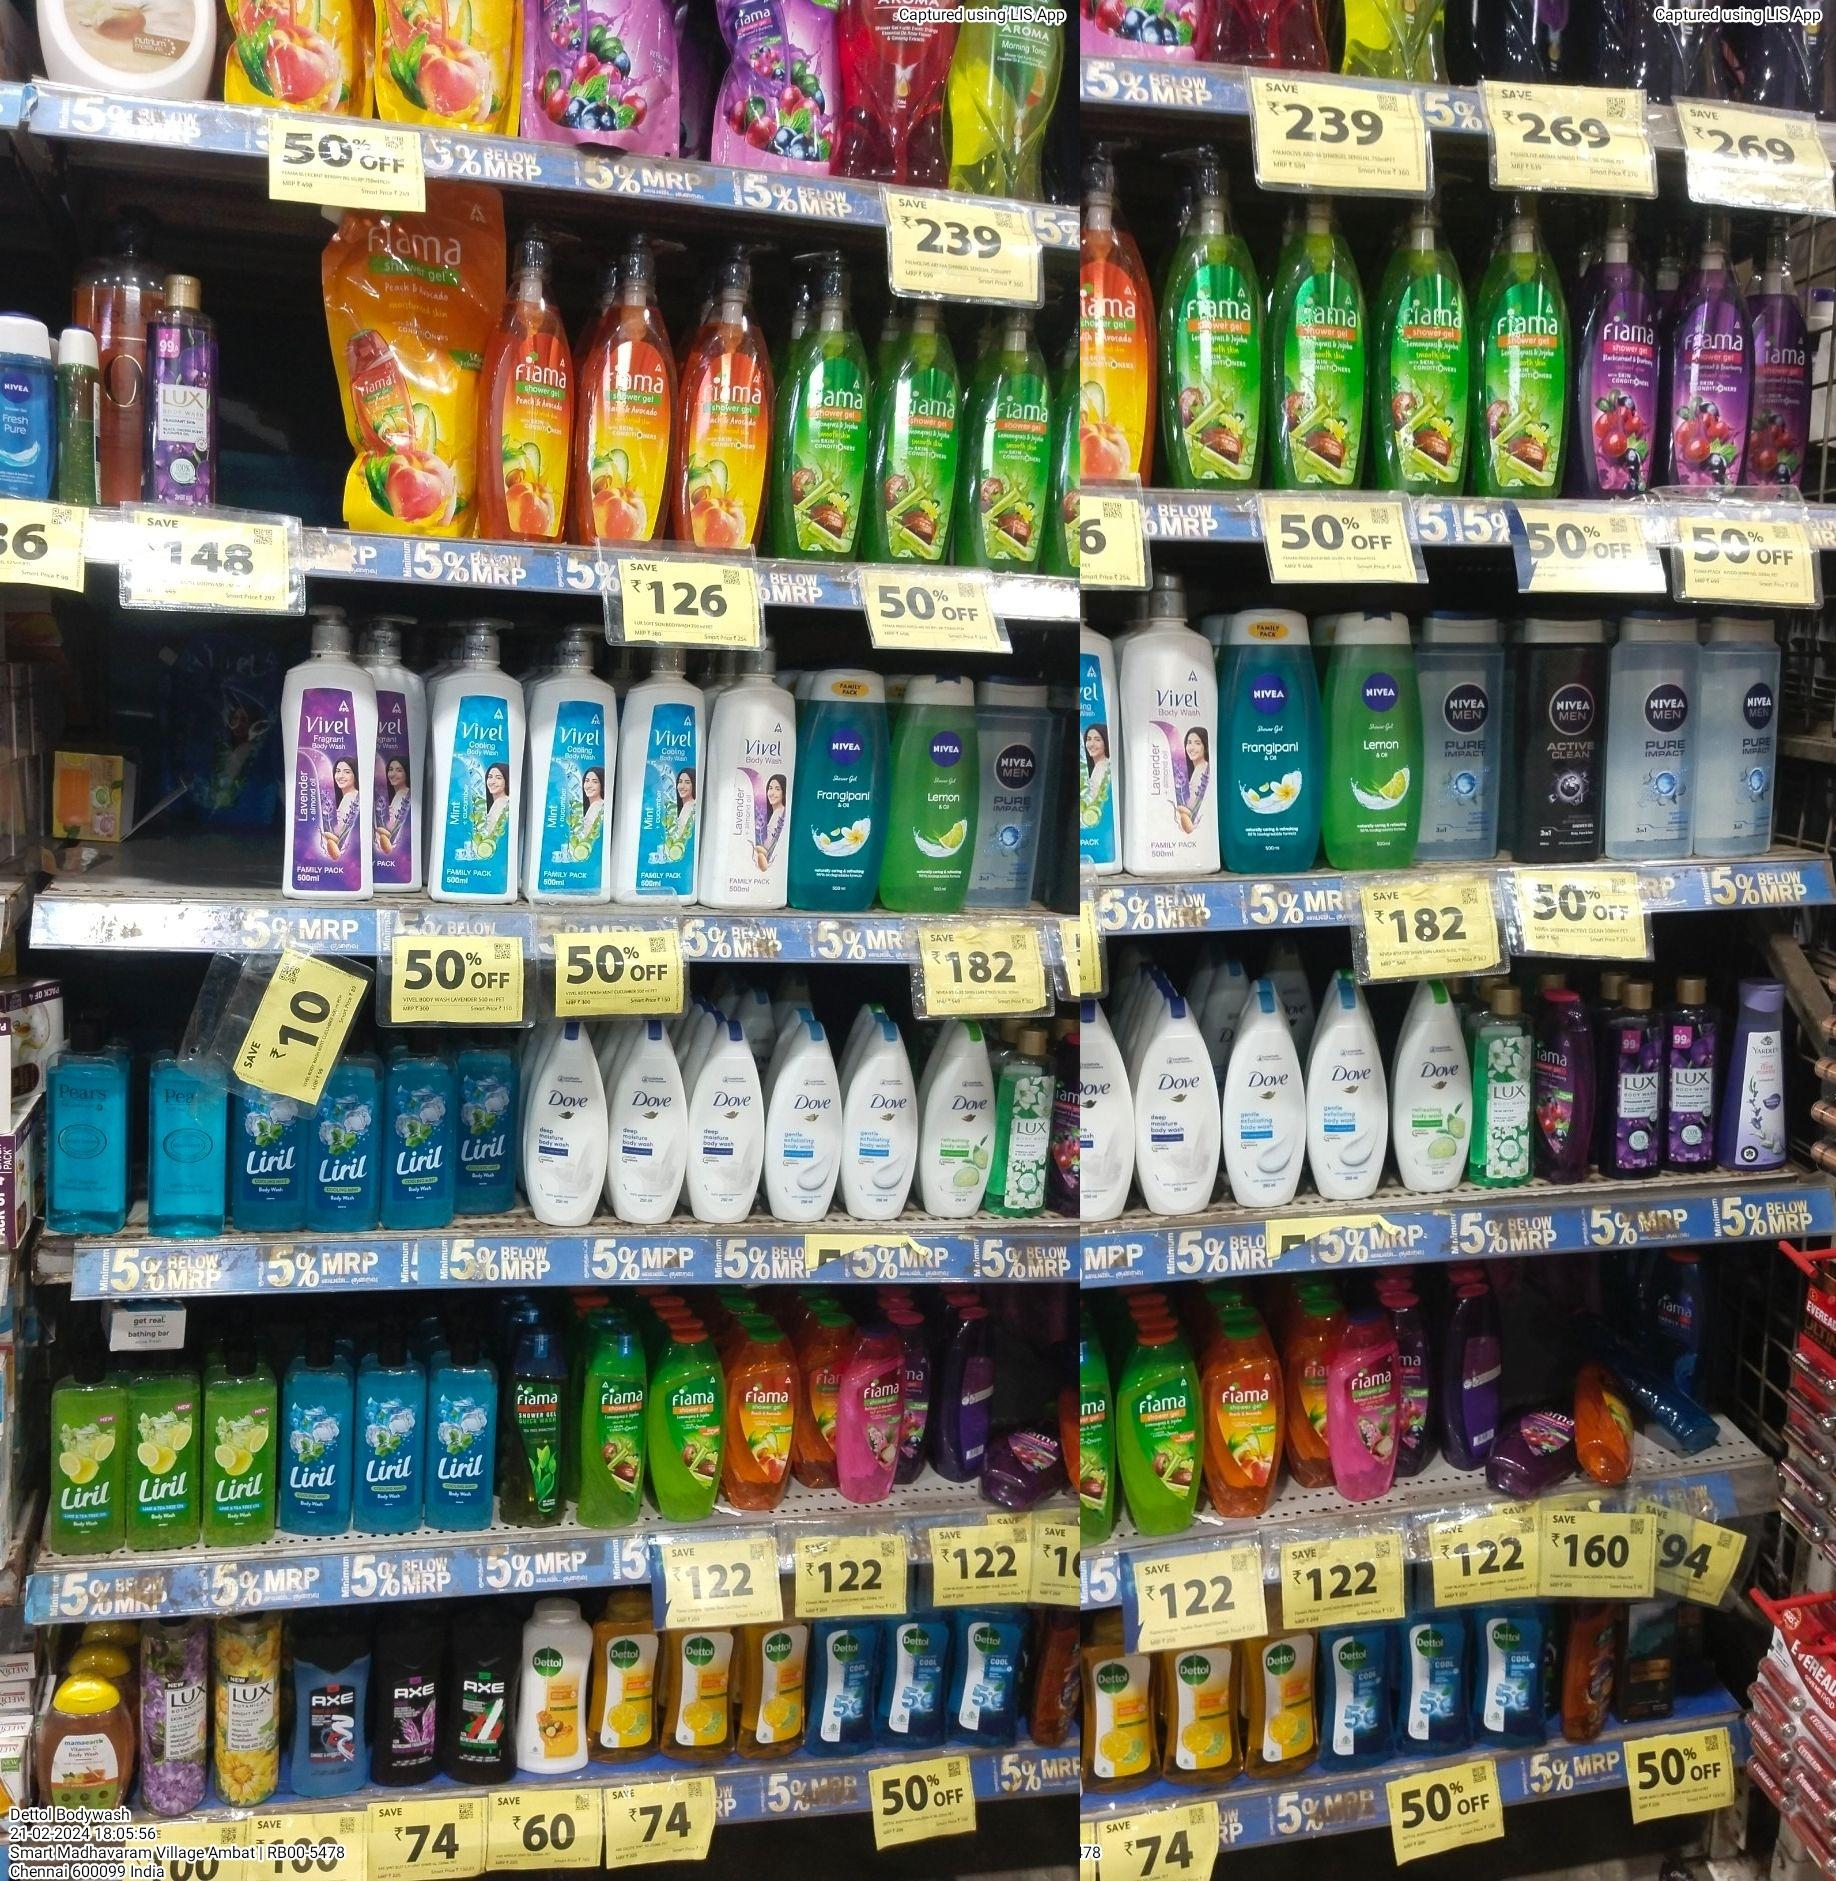Dettol_Bodywash_Cool: (1473, 1595, 1548, 1752), (1320, 1627, 1397, 1772), (1399, 1614, 1475, 1760), (950, 1607, 1024, 1753), (812, 1617, 883, 1758), (883, 1617, 955, 1747)
Dettol_Bodywash_Refresh: (1160, 1644, 1244, 1789), (1083, 1639, 1160, 1795), (592, 1589, 657, 1762), (1244, 1634, 1322, 1780), (659, 1627, 738, 1763), (738, 1620, 814, 1762)
Dettol_Nourish_Body_Wash_250ML: (518, 1589, 594, 1775)
Dove_Deep_Moisture_Body_Wash_250ML: (1133, 993, 1222, 1215), (523, 1019, 609, 1230), (688, 1017, 767, 1225), (610, 1017, 688, 1225)
Dove_Gentle_Exfoliating_Body_Wash_250ML: (1222, 988, 1308, 1209), (1305, 985, 1389, 1200), (765, 1017, 844, 1222), (844, 1015, 918, 1222)
Dove_Refreshing_Body_Wash_250ML: (1390, 980, 1475, 1193), (918, 1019, 997, 1220)
Fiama_Shower_Gel_Lemongrass_and_Jojoba_250ML: (1115, 1328, 1202, 1538), (647, 1331, 728, 1525)
Fiama_Shower_Gel_Patchouli_and_Macadamia_250ML: (1325, 1306, 1404, 1504), (834, 1321, 908, 1504)
Fiama_Shower_Gel_Peach_and_Avocado_250ML: (1202, 1320, 1285, 1523), (728, 1328, 800, 1513)
Liril_Cooling_Mint_Body_Wash_250ML: (279, 1330, 356, 1540), (425, 1326, 498, 1533), (355, 1328, 425, 1536), (382, 1027, 456, 1225), (456, 1025, 521, 1215)
Liril_Lime_and_Tea_Tree_Oil_Body_Wash_250ML: (202, 1338, 279, 1550), (50, 1346, 126, 1557), (128, 1350, 202, 1548)
Lux_Black_Orchid_Scent_and_Juniper_Oil_Body_Wash_245ML: (143, 269, 217, 511), (1604, 978, 1663, 1178), (1665, 972, 1722, 1177)
Lux_Body_Wash_Skin_Detox_Freesia_Scent_and_Alove_Vera_245ML: (1471, 980, 1537, 1188)
Nivea_Shower_Gel_Frangipani_and_Oil_250ML: (1217, 602, 1322, 876), (792, 664, 889, 908)
Nivea_Shower_Gel_Lemon_and_Oil_250ML: (1320, 603, 1424, 872), (889, 669, 982, 918)
Pears_Pure_Glycerin_and_Mint_Extracts_Body_Wash_250ML: (45, 1022, 126, 1236), (145, 1042, 229, 1239)
